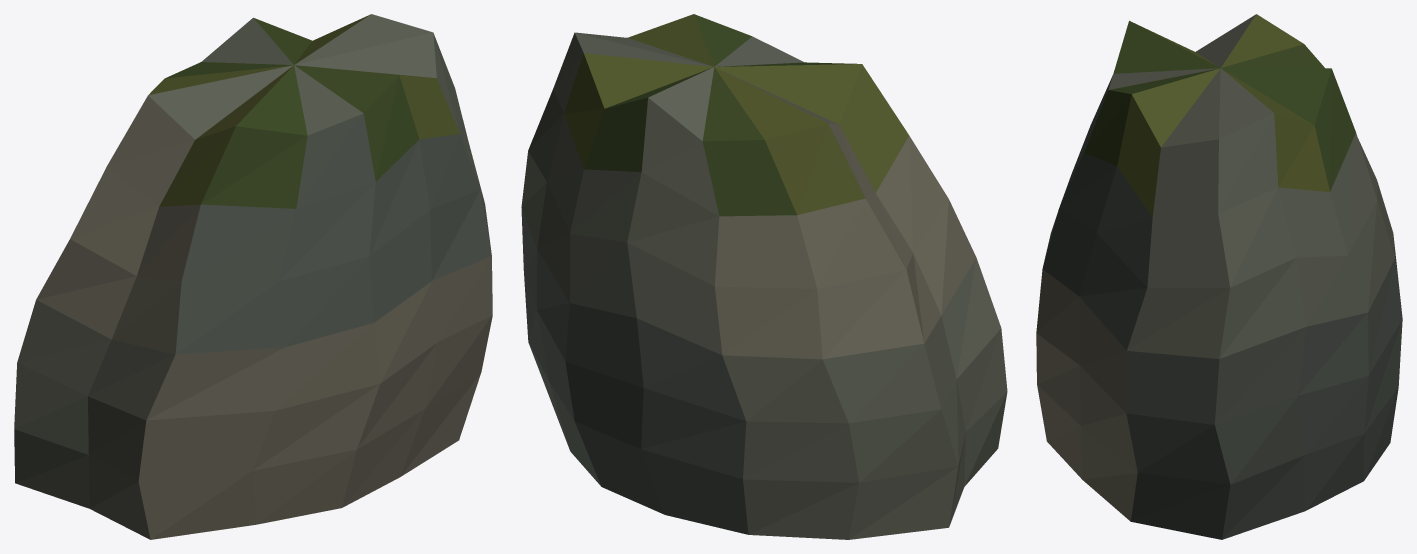
Rendered from Rock_Boulder_01.fbx.
The picture shows the model from 3 angles, left to right: view 1: azimuth 30°, elevation 25°; view 2: azimuth 150°, elevation 25°; view 3: azimuth 270°, elevation 25°; orthographic projection. The views are drawn at different scales.
Parts seen in each view (by area): view 1: Rock_Boulder_01_LOD0.001; view 2: Rock_Boulder_01_LOD0.001; view 3: Rock_Boulder_01_LOD0.001.
Boxes of the visible parts, x1,y1,x2,y2 form: Rock_Boulder_01_LOD0.001: (14,14,492,539); Rock_Boulder_01_LOD0.001: (521,14,1007,539); Rock_Boulder_01_LOD0.001: (1036,14,1402,539).
Size of what is drawn, in the model's own units: 2.9 by 2.35 by 1.95.
